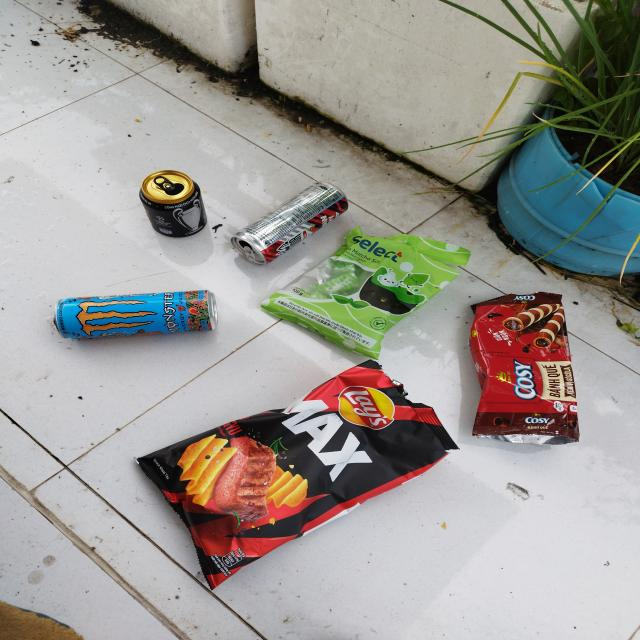can: (230, 181, 350, 266), (54, 290, 218, 340), (139, 170, 207, 238)
snack package: (134, 359, 460, 591), (259, 226, 472, 360), (468, 291, 580, 445)
